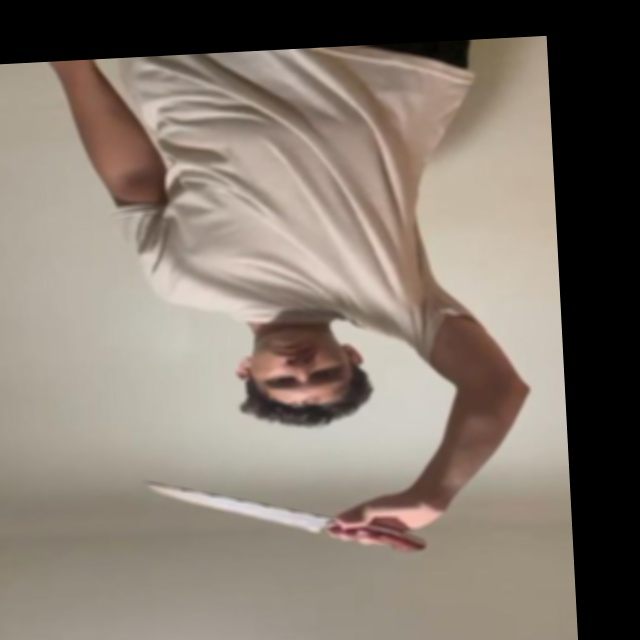Sharp-Object: (149, 475, 329, 545)
